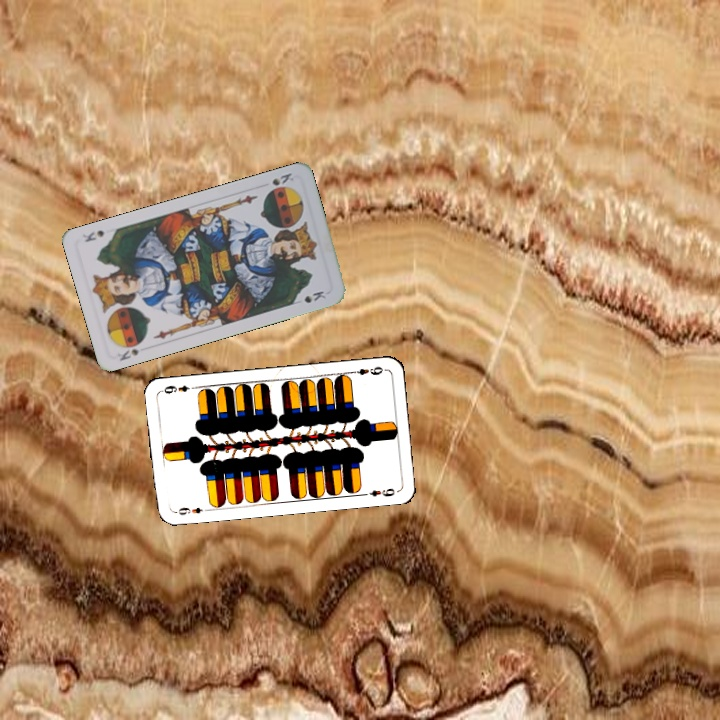E9: (347, 362, 387, 378), (171, 503, 211, 518)
SK: (111, 337, 147, 364), (264, 169, 294, 195)
